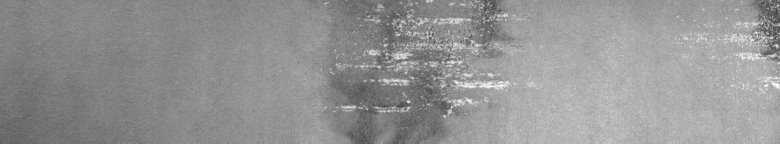hc: (679, 4, 776, 90)
